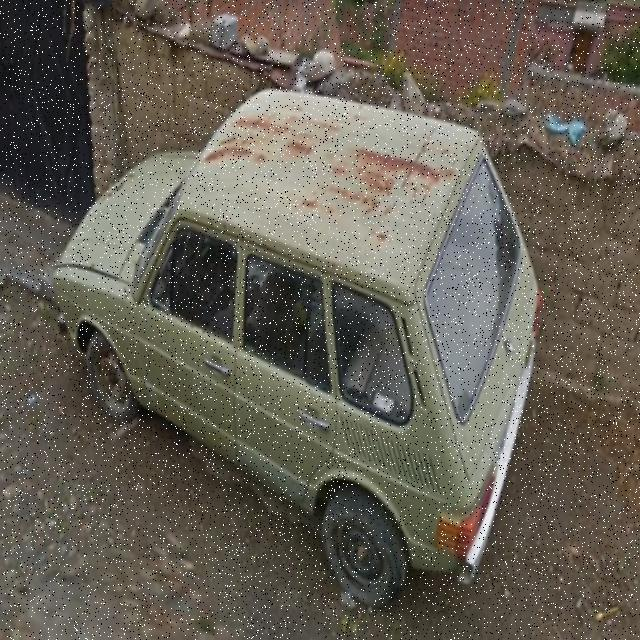cars: (45, 51, 525, 631)
